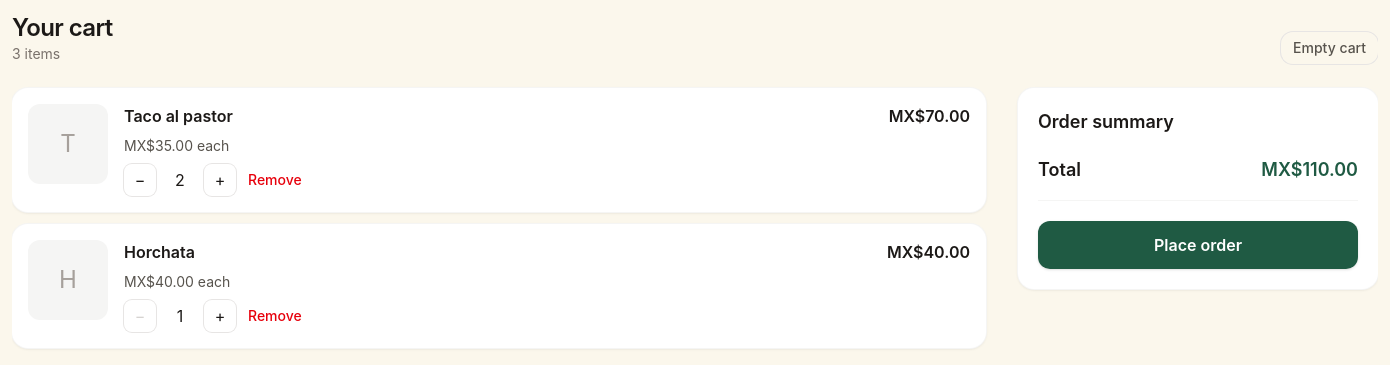
Scenario: CartPage › sends the new quantity when the customer increases an item
Click the button named "Increase quantity of Taco al pastor".
click(220, 180)  # box [204,164,236,196]
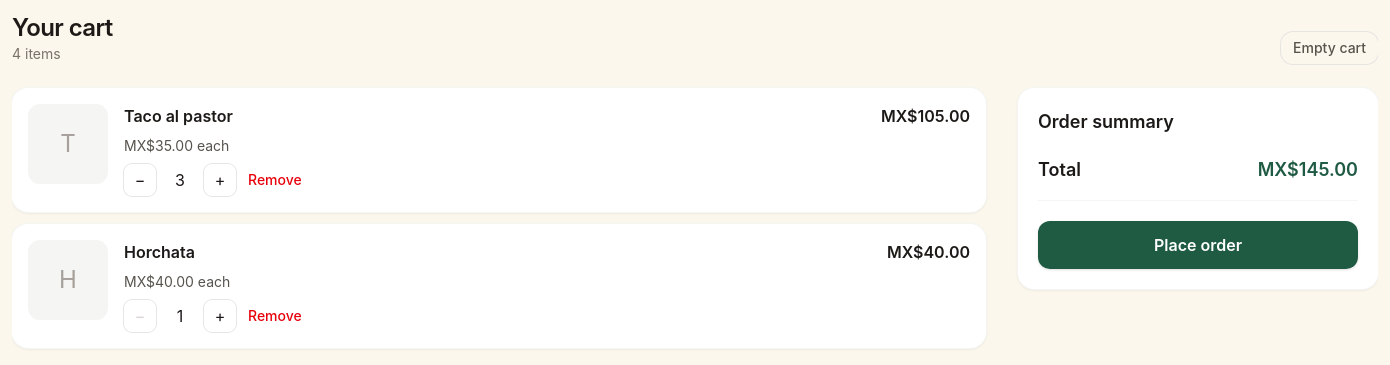
Now the text named "Quantity of Taco al pastor" reads "3", box [175,170,185,190]
